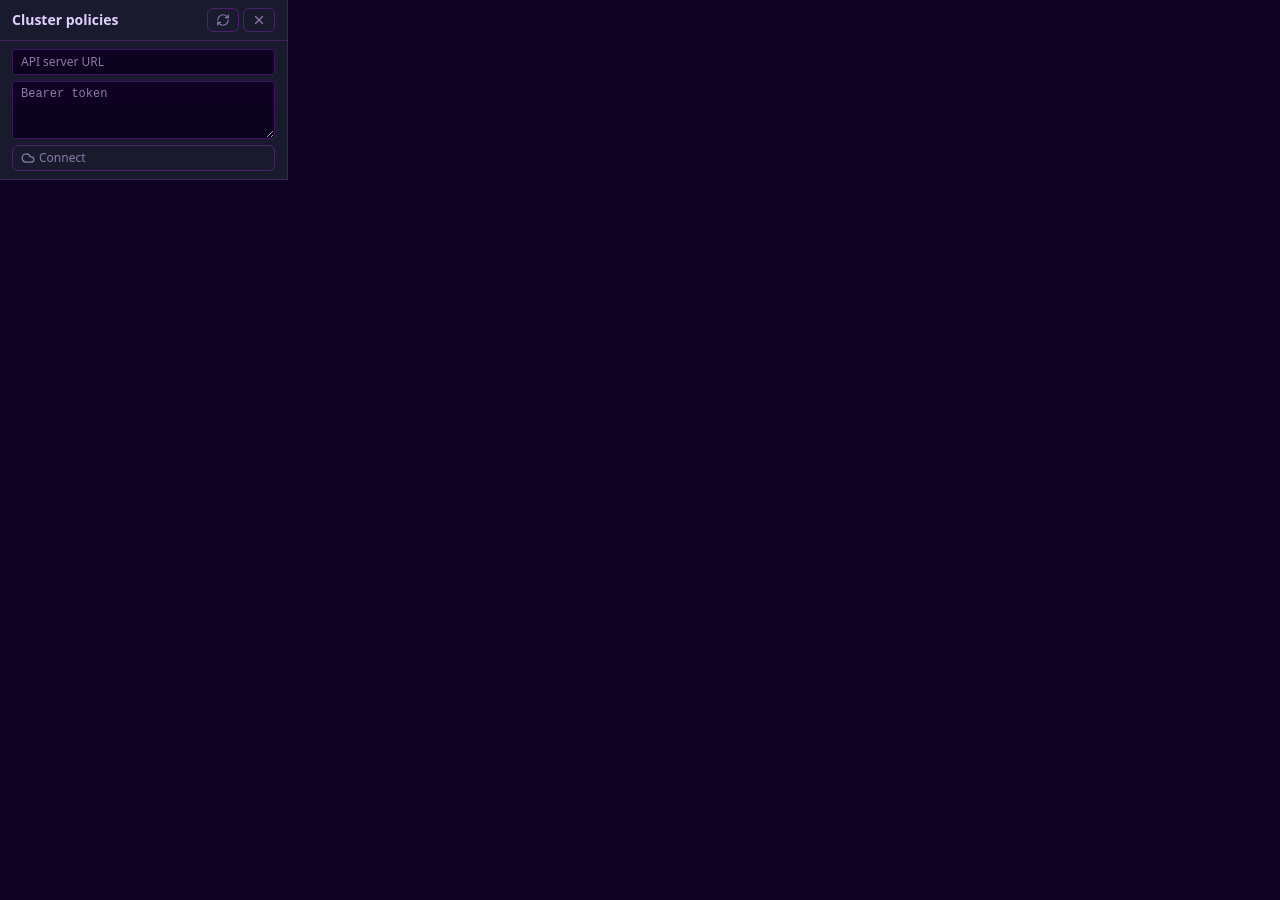
it: delete UI › lists every selected row in the bulk dialog with the managed flag
Click the button named "Load policies": (223,20) [207, 8, 239, 32]
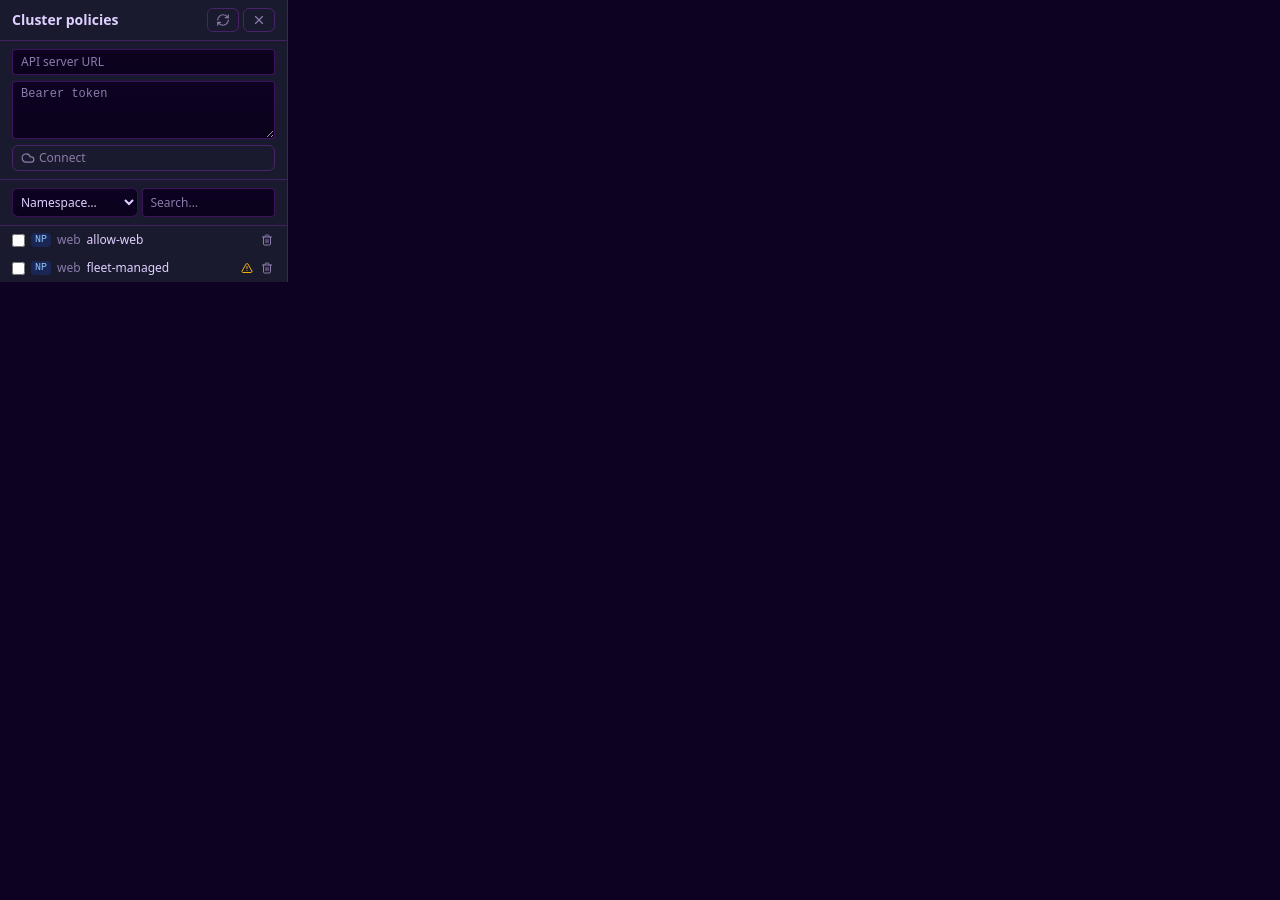
Expected: the text "allow-web" is shown, [87, 232, 143, 248]
Click the checkbox named "Select: web/allow-web": (18,240) [12, 234, 25, 246]
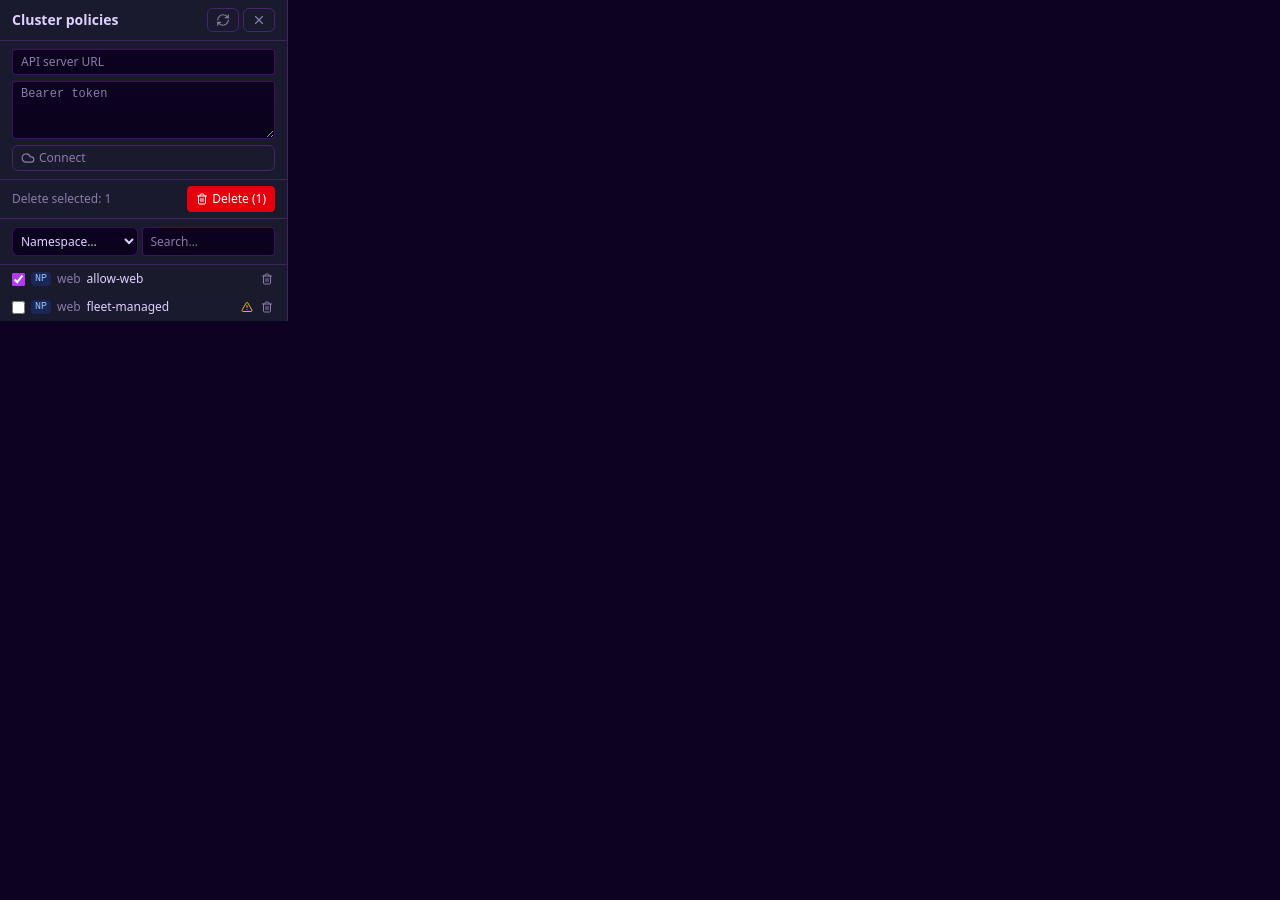
Click the checkbox named "Select: web/fleet-managed": (18,307) [12, 300, 25, 314]
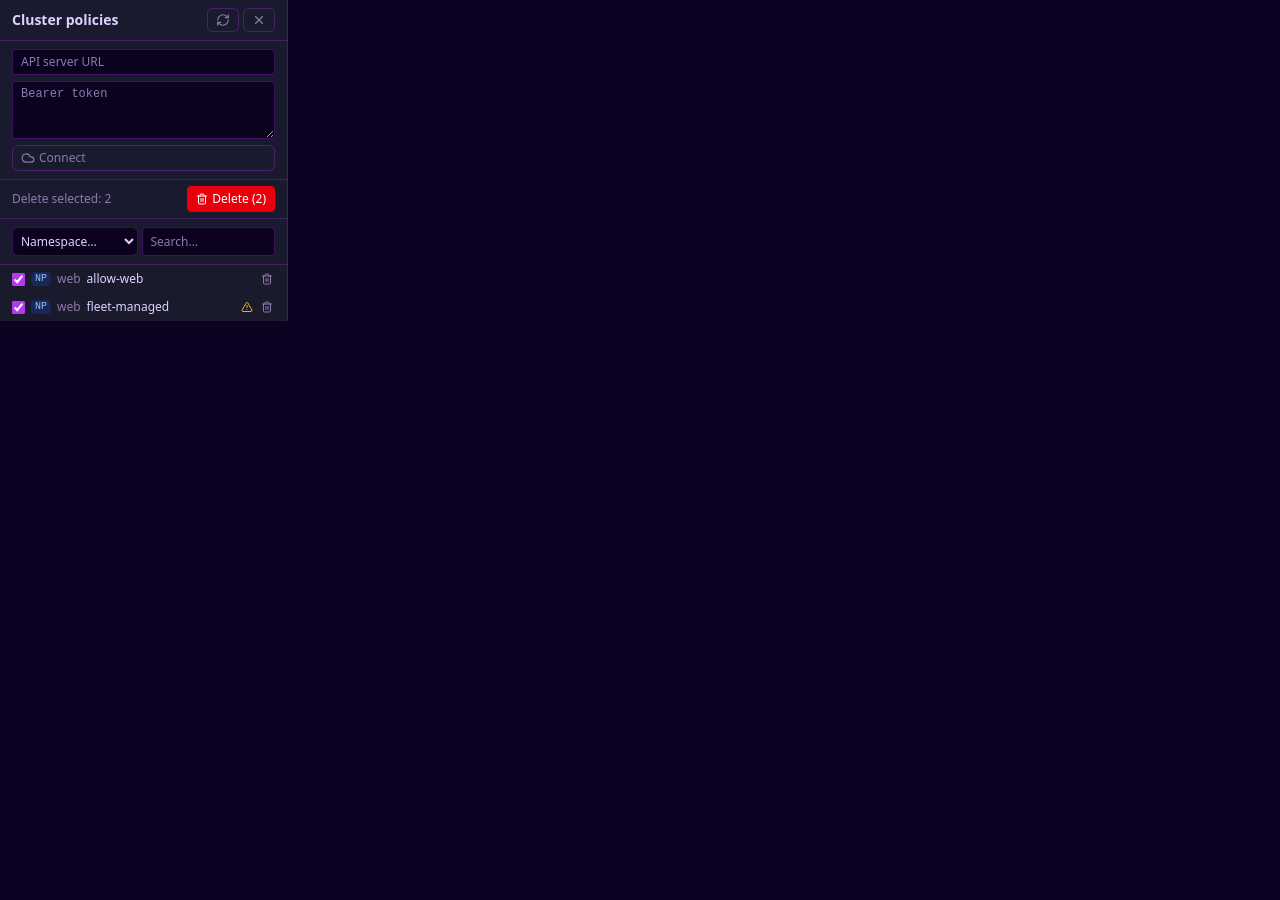
Click the button "Delete (2)": (231,199) [187, 186, 275, 212]
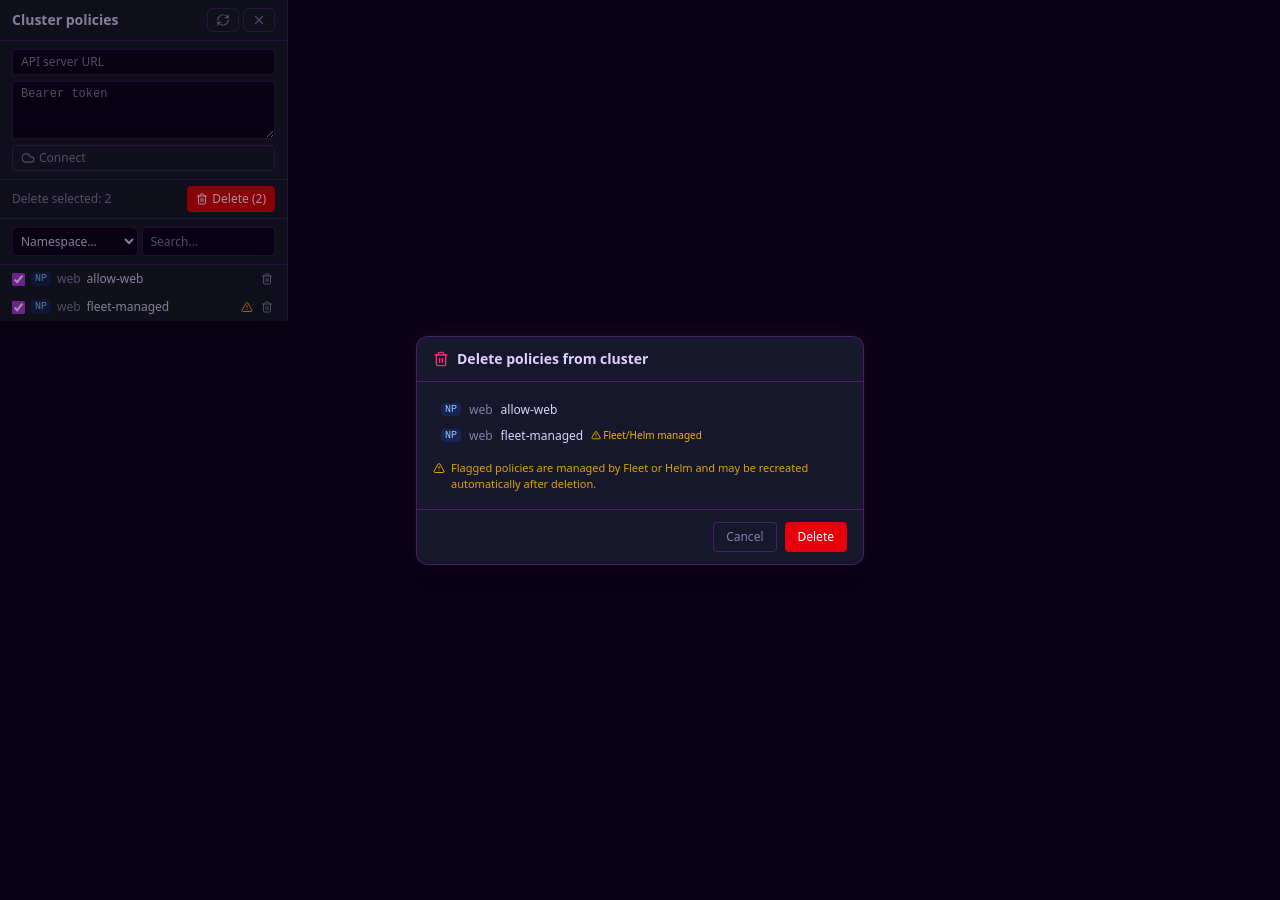
Expected: the text "managed by Fleet or Helm" is shown, [451, 460, 808, 491]
Expected: the dialog is shown, [416, 336, 864, 564]
